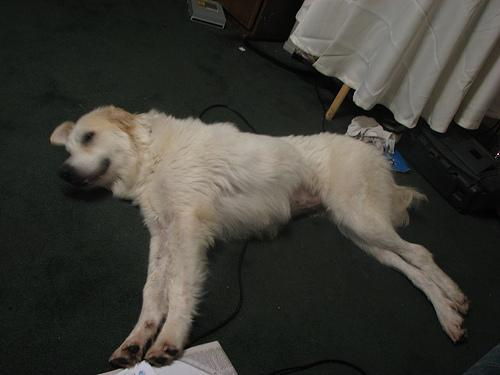Great_Pyrenees: (49, 105, 470, 368)
